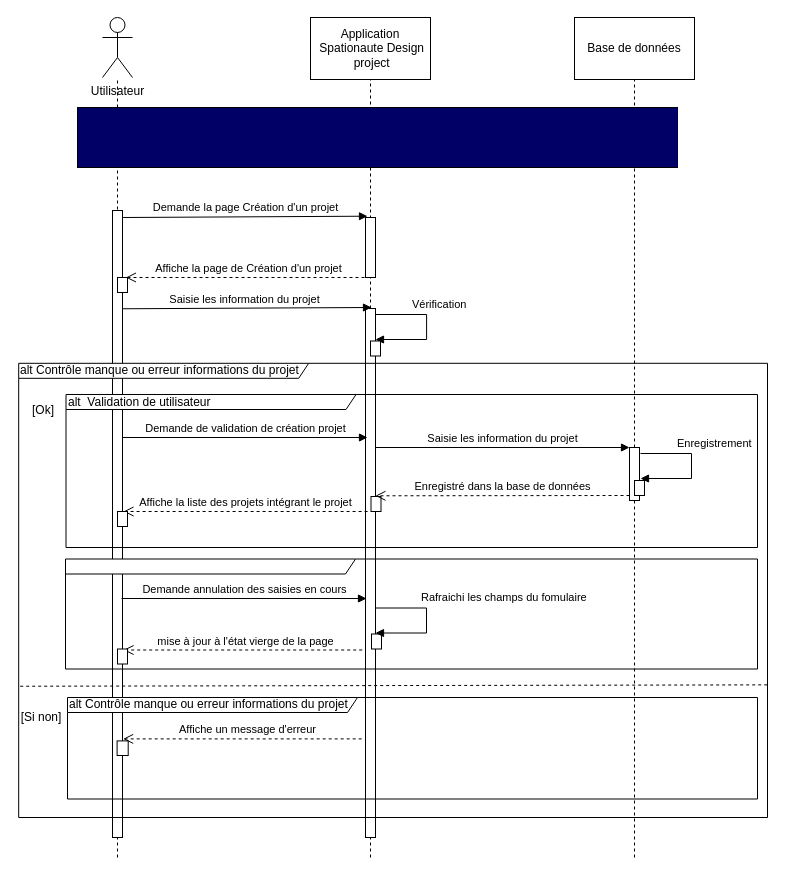
Some shapes in this 786 by 876 pixel diagram are drawn without their labels. Each missing label, with the centre of its shape:
alt Annulation de utilisateur: point 411,613
Authentification(): point 377,137
